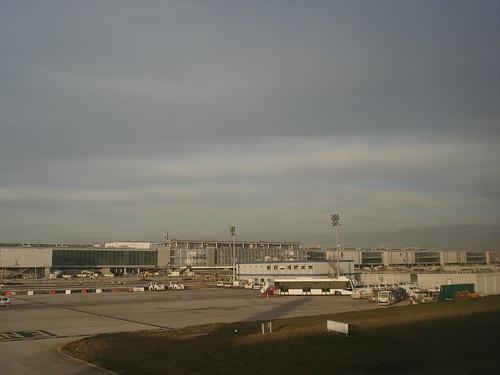bus: (270, 278, 357, 295), (378, 289, 405, 308)
